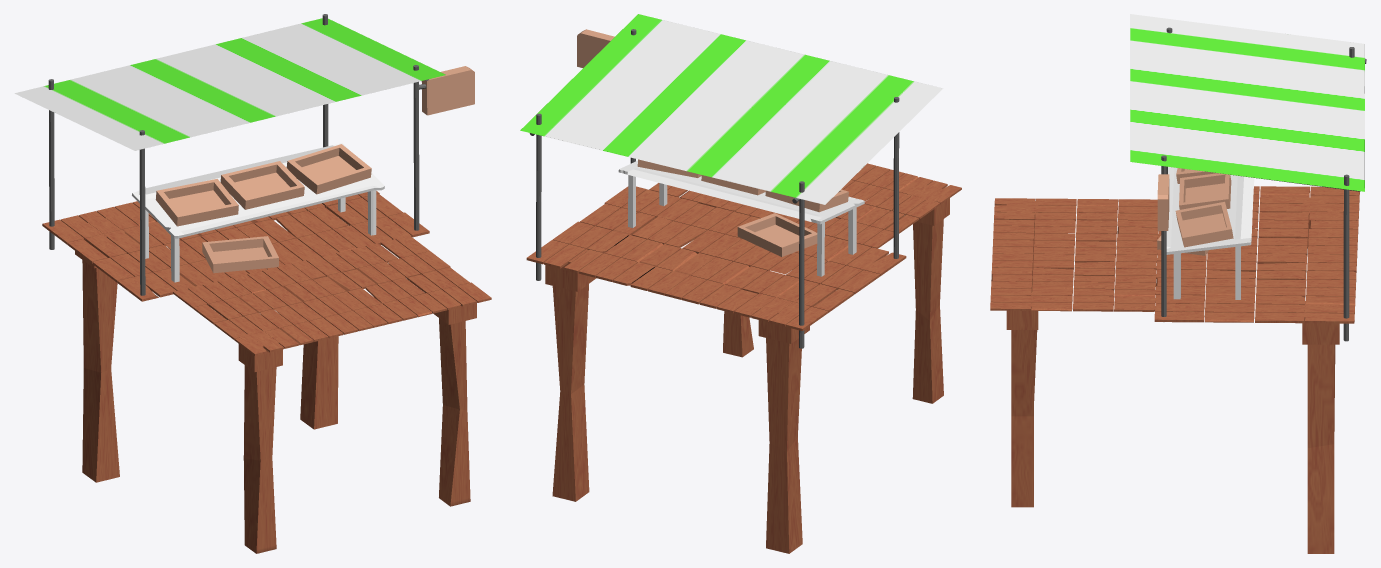
Rendered from shop.glb.
3 views of the same model, side by side, from view 1: azimuth 30°, elevation 25°; view 2: azimuth 150°, elevation 25°; view 3: azimuth 270°, elevation 25° (orthographic). The views are drawn at different scales.
Visible parts, largest first — view 1: Cube.003; view 2: Cube.003; view 3: Cube.003.
Part boxes in pixels (x1,y1,x2,y2): Cube.003: [14, 14, 491, 553]; Cube.003: [520, 14, 961, 553]; Cube.003: [990, 14, 1366, 553].
Size of what is drawn, in the model's own units: 16.13 by 17.89 by 15.25.
5 materials, 2 textured.
